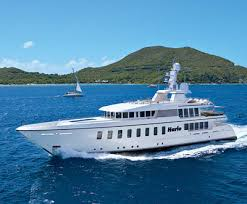tau_dansu: (30, 75, 245, 153)
